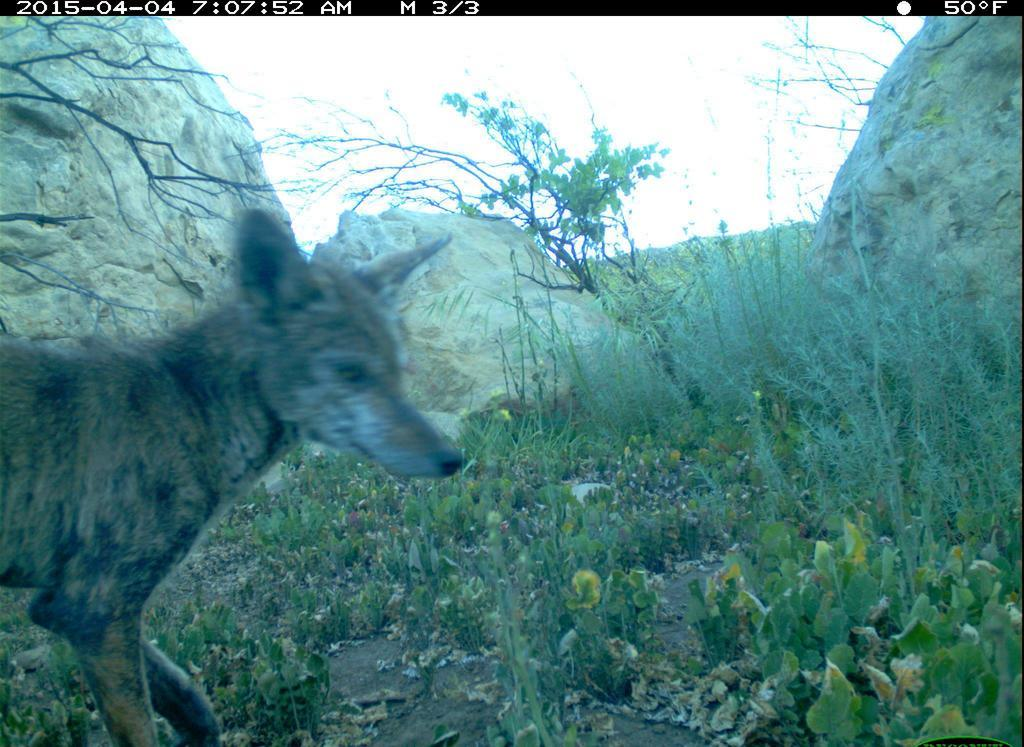coyote: (1, 203, 488, 747)
